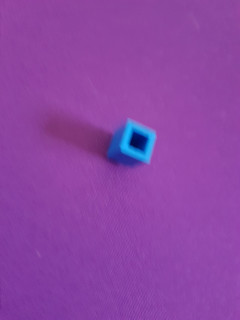1x1 blue: (106, 118, 156, 168)
